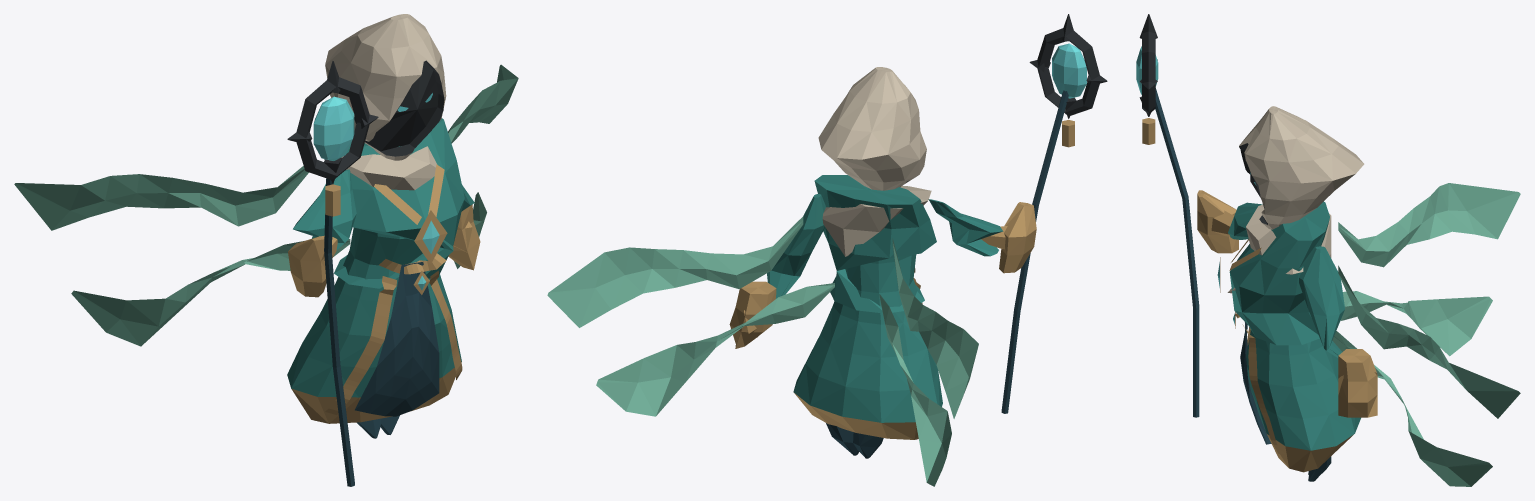
The model's file is warden-model.glb.
The picture shows the model from 3 angles, left to right: view 1: azimuth 30°, elevation 25°; view 2: azimuth 150°, elevation 25°; view 3: azimuth 270°, elevation 25°; orthographic projection. The views are drawn at different scales.
Visible parts, largest first — view 1: Robe, Ribbon.Upper.L, Hood, Open robe inner cloth, Ribbon.Lower.L, Staff ring, FaceRecess, Collar, Staff shaft, Staff cyan crystal, Sleeve.L, Robe trim.L (+7 smaller); view 2: Robe, Ribbon.Upper.R, Hood, Ribbon.Lower.R, Ribbon.Upper.L, Ribbon.Lower.L, Collar, Sleeve.R, Staff ring, Staff shaft, Hand.L, Sleeve.L (+2 smaller); view 3: Robe, Hood, Ribbon.Upper.L, Ribbon.Upper.R, Ribbon.Lower.L, Sleeve.R, Ribbon.Lower.R, Hand.R, Staff shaft, Hand.L, Collar, Staff ring (+3 smaller).
Boxes of the visible parts, x1,y1,x2,y2 form: Robe: [287, 118, 464, 423]; Ribbon.Upper.L: [14, 166, 308, 230]; Hood: [325, 14, 446, 160]; Open robe inner cloth: [355, 262, 439, 416]; Ribbon.Lower.L: [71, 239, 350, 346]; Staff ring: [296, 77, 369, 179]; FaceRecess: [365, 61, 438, 151]; Collar: [341, 146, 437, 190]; Staff shaft: [324, 178, 354, 486]; Staff cyan crystal: [313, 96, 354, 160]; Sleeve.L: [293, 169, 356, 249]; Robe trim.L: [325, 276, 396, 414]; Robe: [793, 175, 942, 439]; Ribbon.Upper.R: [547, 216, 803, 327]; Hood: [818, 67, 926, 190]; Ribbon.Lower.R: [596, 283, 834, 416]; Ribbon.Upper.L: [892, 238, 978, 418]; Ribbon.Lower.L: [879, 294, 951, 486]; Collar: [822, 185, 931, 256]; Sleeve.R: [767, 194, 825, 298]; Staff ring: [1037, 28, 1099, 115]; Staff shaft: [1001, 90, 1068, 413]; Hand.L: [999, 202, 1036, 273]; Sleeve.L: [928, 199, 1003, 256]; Robe: [1229, 201, 1360, 472]; Hood: [1239, 106, 1364, 229]; Ribbon.Upper.L: [1338, 183, 1520, 267]; Ribbon.Upper.R: [1338, 265, 1520, 418]; Ribbon.Lower.L: [1340, 291, 1492, 356]; Sleeve.R: [1299, 246, 1344, 357]; Ribbon.Lower.R: [1332, 331, 1492, 486]; Hand.R: [1338, 349, 1377, 417]; Staff shaft: [1155, 88, 1199, 417]; Hand.L: [1197, 190, 1238, 253]; Collar: [1227, 204, 1331, 293]; Staff ring: [1142, 31, 1155, 114].
Size of the model in its own units: 1.03 by 0.9747 by 0.8407.
